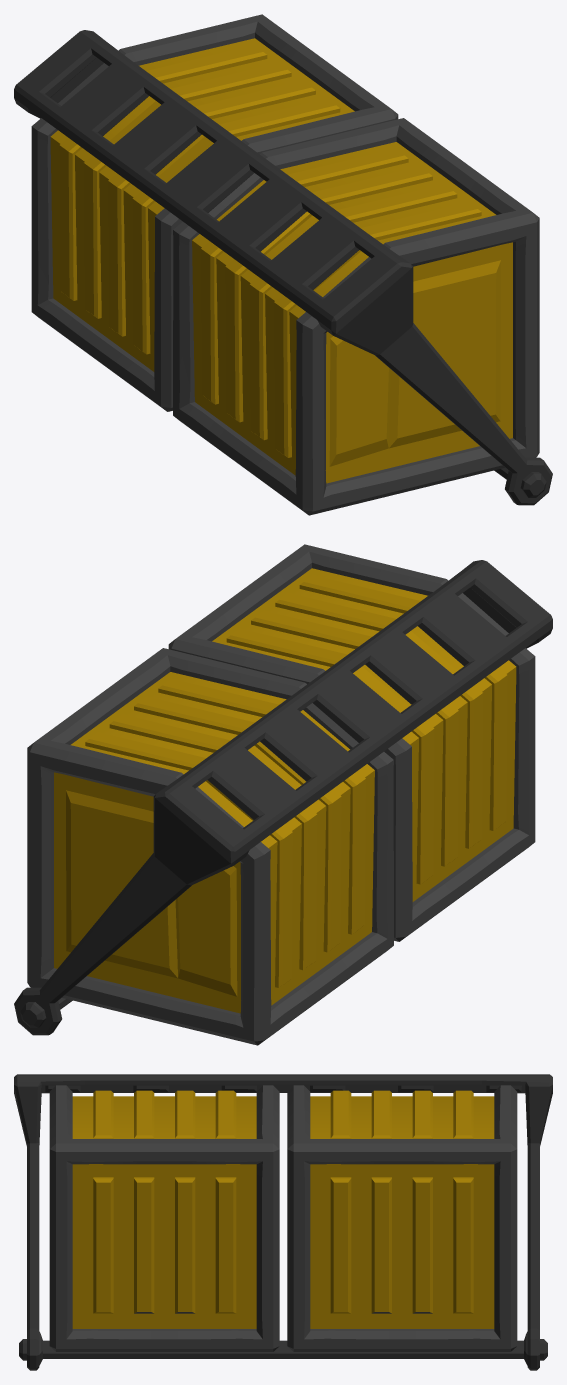
File: CargoMedium.fbx
The picture shows the model from 3 angles, top to bottom: view 1: azimuth 30°, elevation 25°; view 2: azimuth 150°, elevation 25°; view 3: azimuth 270°, elevation 25°; orthographic projection. The views are drawn at different scales.
Visible parts, largest first — view 1: Holder2; view 2: Holder2; view 3: Holder2.
Boxes of the visible parts, x1=… form: Holder2: x1=14, y1=14, x2=552, y2=515; Holder2: x1=14, y1=544, x2=552, y2=1045; Holder2: x1=14, y1=1074, x2=552, y2=1370.
Size of the model in its own units: 120 by 137 by 281.
